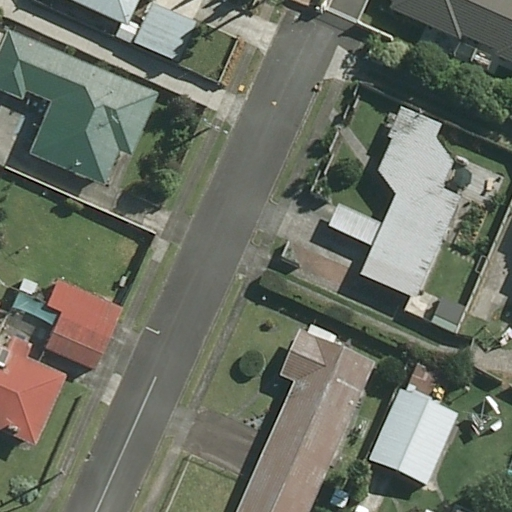DT: (199, 116, 231, 138), (48, 464, 77, 482)
